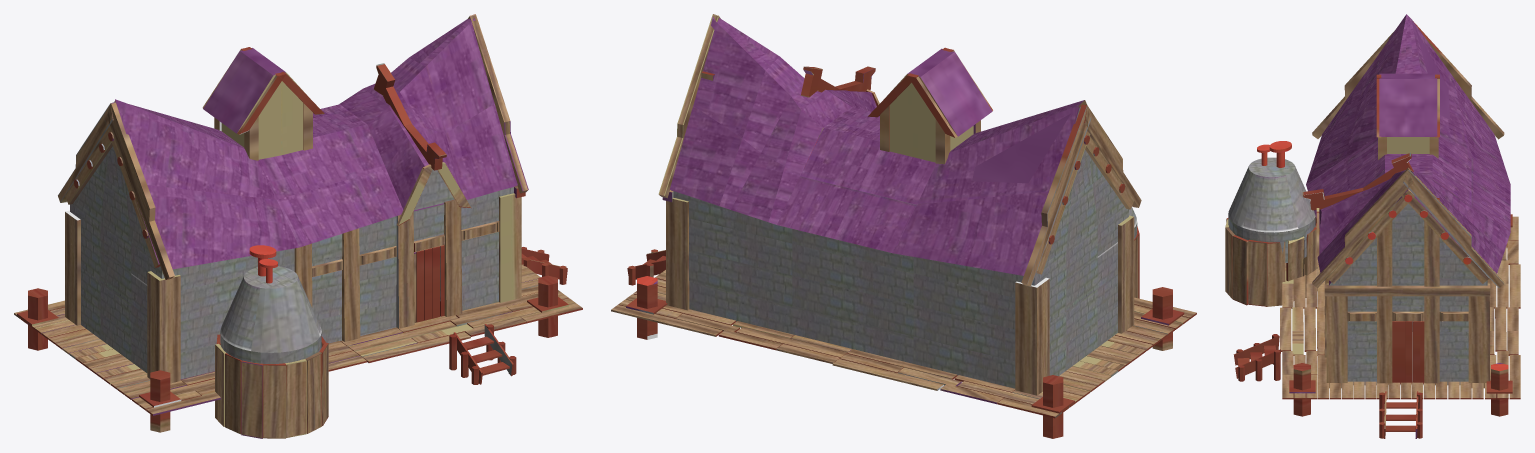
Rendered from CasaRecu11.fbx.
3 renders of one model, left to right at view 1: azimuth 30°, elevation 25°; view 2: azimuth 150°, elevation 25°; view 3: azimuth 270°, elevation 25°, orthographic. The views are drawn at different scales.
Parts seen in each view (by area): view 1: Casa; view 2: Casa; view 3: Casa.
Part boxes in pixels (<box>): Casa: <box>14,14,582,438</box>; Casa: <box>611,14,1196,438</box>; Casa: <box>1225,14,1520,438</box>.
Bounding box in the file's own units: 1195 × 674 × 745.
Materials: 1 (1 with a texture image).
